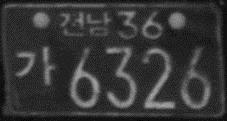2: (141, 47, 175, 111)
3: (104, 46, 138, 107), (116, 9, 139, 42)
6: (179, 44, 212, 110), (67, 47, 102, 109), (141, 9, 163, 41)
가: (13, 45, 57, 84)
전남_O: (58, 9, 111, 39)
